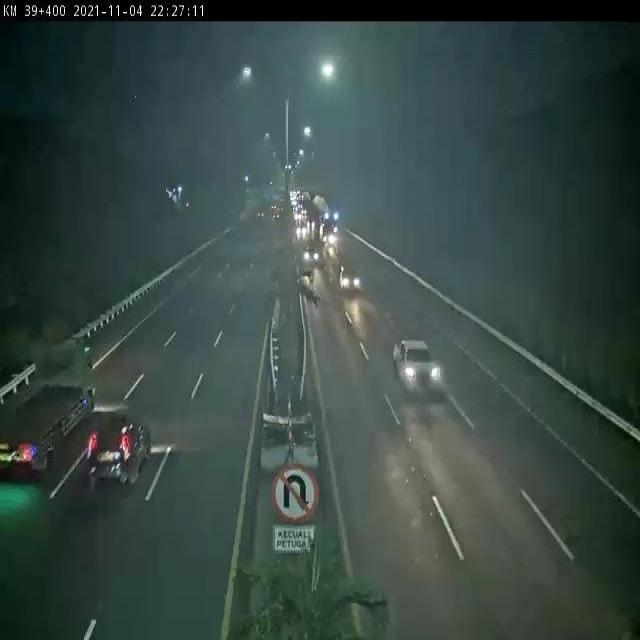car: (86, 412, 153, 488), (393, 335, 444, 396), (337, 260, 365, 296)
truck-m-: (0, 328, 95, 473)
